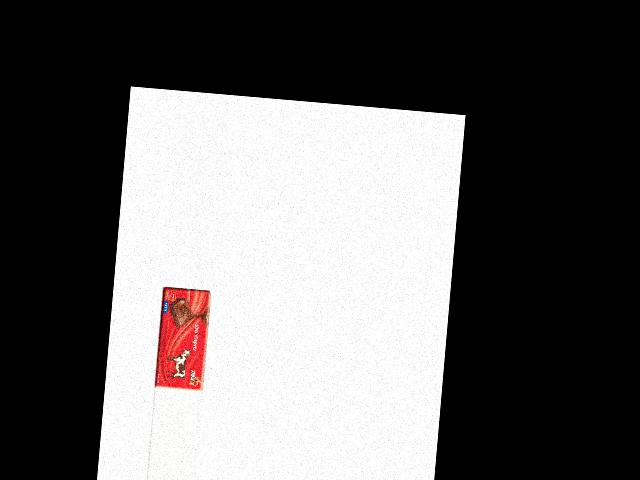chocolate: (154, 286, 211, 392)
